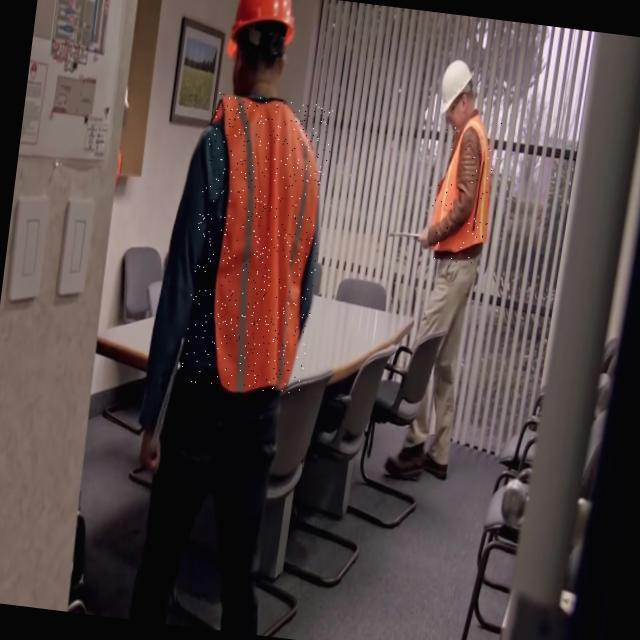helmet: (425, 53, 494, 127), (222, 0, 297, 56)
vest: (179, 92, 335, 397), (425, 112, 503, 266)
